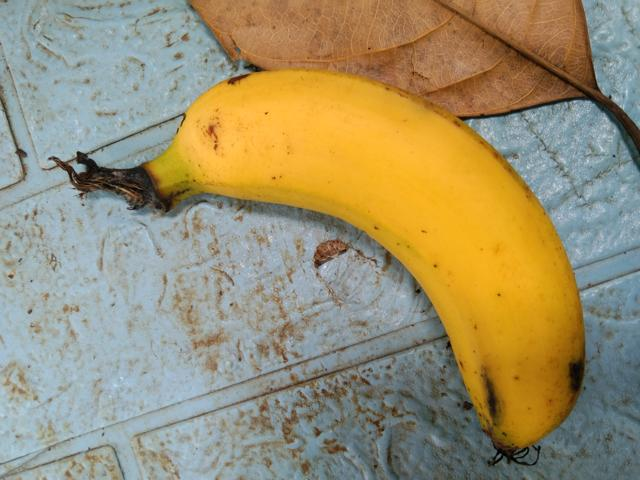freshripe: (162, 58, 600, 447)
